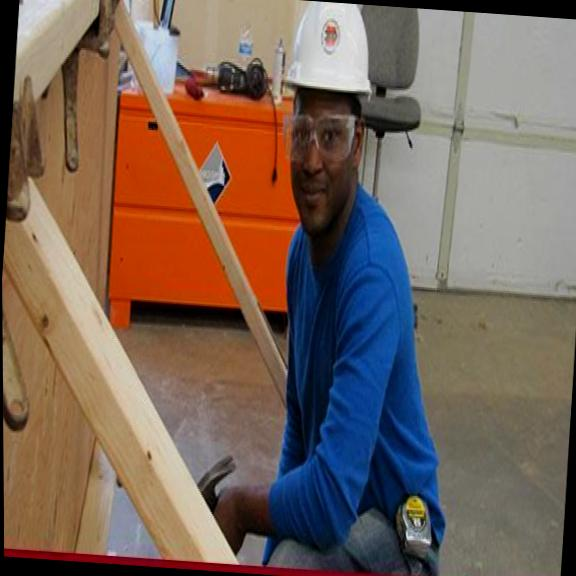no_safety_vest: (240, 184, 449, 548)
